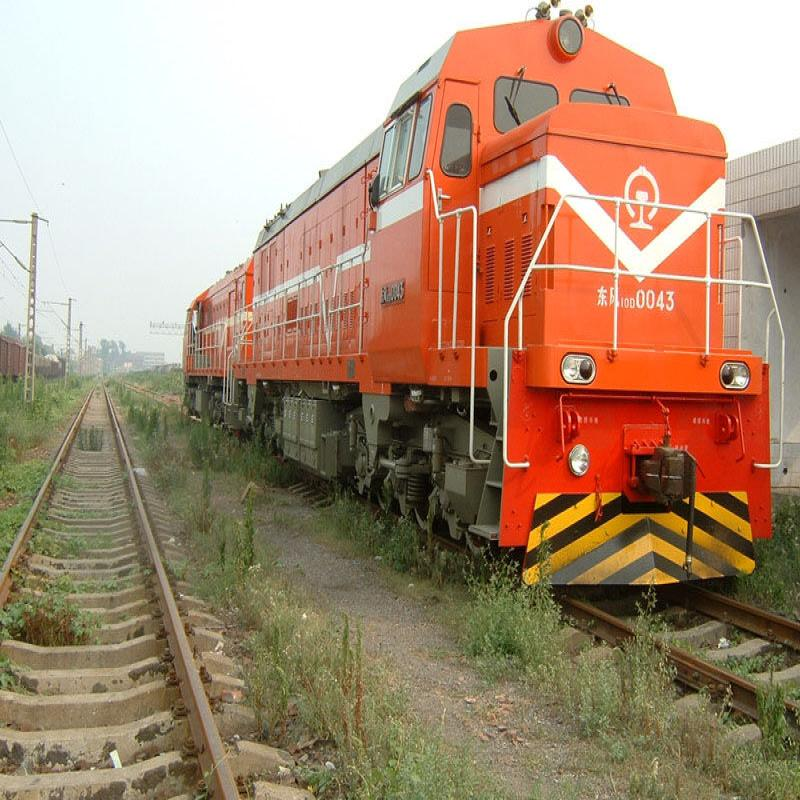train: (175, 3, 792, 615)
